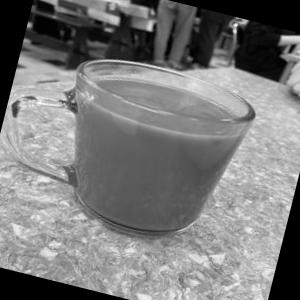coffee: (25, 26, 275, 256)
